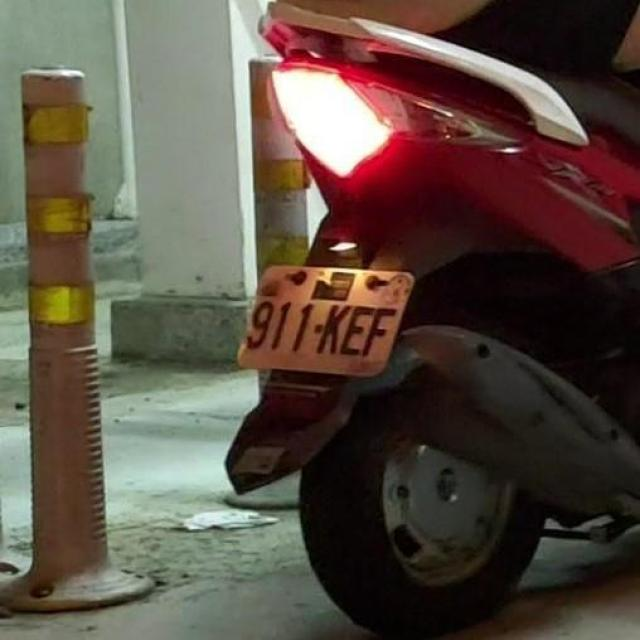W: (230, 246, 420, 390)
